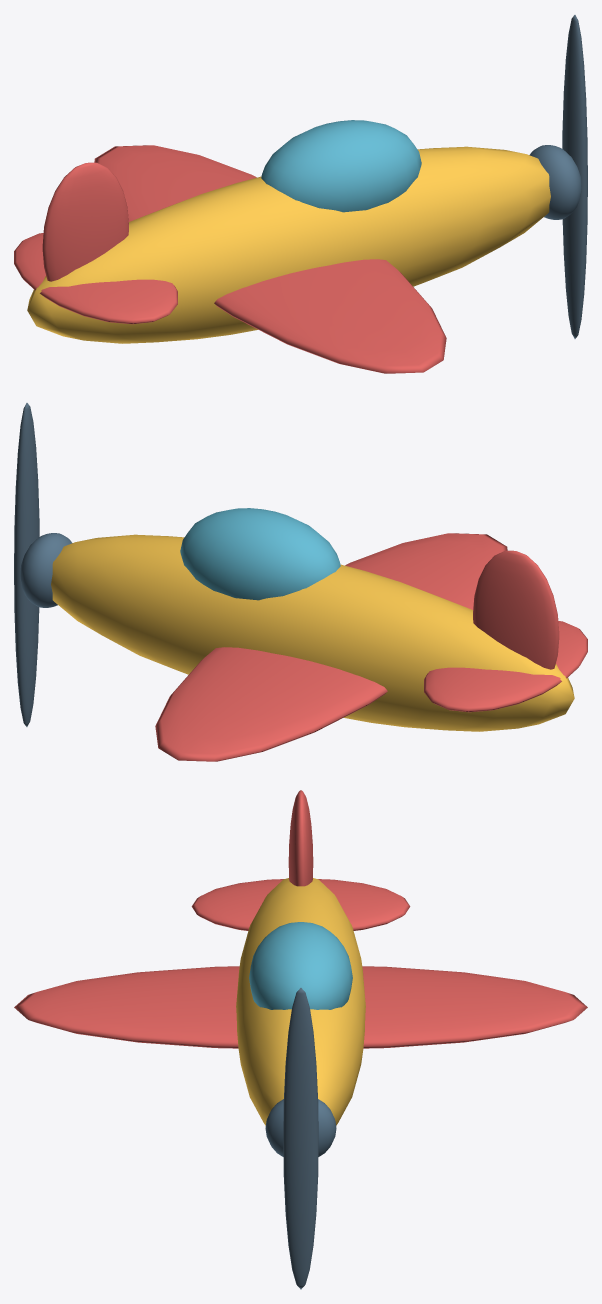
Rendered from lsts-plane.glb.
The picture shows the model from 3 angles, top to bottom: view 1: azimuth 30°, elevation 25°; view 2: azimuth 150°, elevation 25°; view 3: azimuth 270°, elevation 25°; orthographic projection. The views are drawn at different scales.
Parts seen in each view (by area): view 1: gold fuselage, red wing, cockpit, tail, rear wing, Propeller, nose; view 2: gold fuselage, red wing, cockpit, tail, rear wing, Propeller, nose; view 3: red wing, gold fuselage, Propeller, cockpit, rear wing, tail, nose.
Part boxes in pixels (bbox=[...]): gold fuselage: bbox=[27, 146, 550, 343]; red wing: bbox=[94, 145, 446, 373]; cockpit: bbox=[261, 120, 421, 212]; tail: bbox=[42, 162, 128, 281]; rear wing: bbox=[14, 233, 177, 324]; Propeller: bbox=[562, 15, 587, 338]; nose: bbox=[529, 145, 581, 219]; gold fuselage: bbox=[51, 534, 574, 731]; red wing: bbox=[155, 533, 507, 761]; cockpit: bbox=[180, 508, 340, 600]; tail: bbox=[473, 550, 559, 669]; rear wing: bbox=[424, 621, 587, 712]; Propeller: bbox=[14, 403, 39, 726]; nose: bbox=[20, 533, 72, 607]; red wing: bbox=[14, 966, 587, 1048]; gold fuselage: bbox=[236, 878, 365, 1125]; Propeller: bbox=[283, 988, 318, 1289]; cockpit: bbox=[249, 922, 352, 1009]; rear wing: bbox=[191, 879, 410, 930]; tail: bbox=[288, 790, 313, 886]; nose: bbox=[265, 1099, 336, 1156].
Size of the model in its own units: 2.19 by 1.22 by 2.1.
